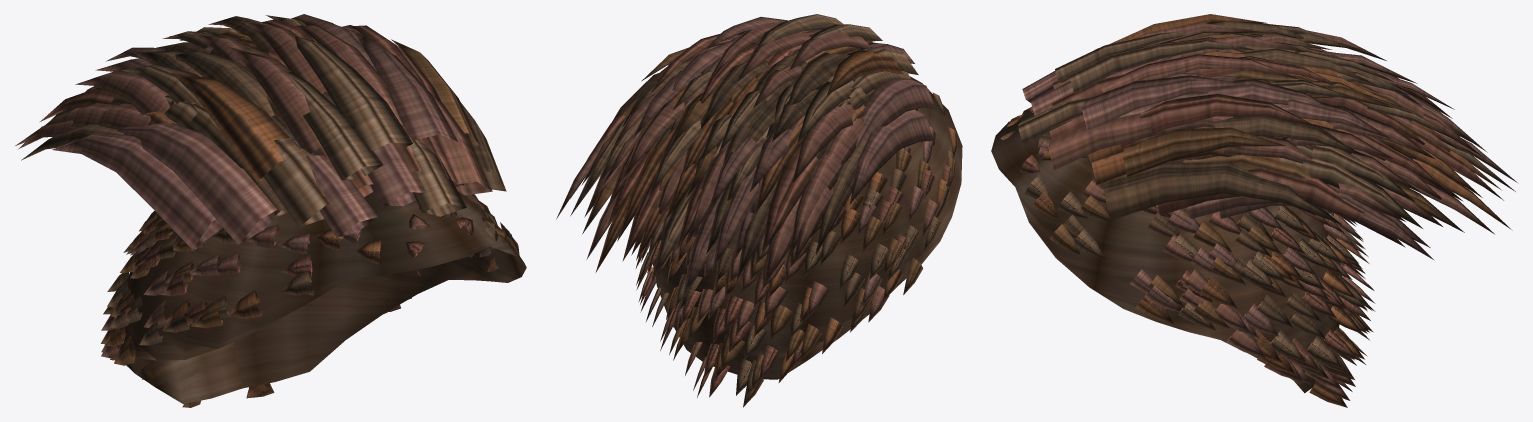
Rendered from topete.glb.
3 views of the same model, side by side, from view 1: azimuth 30°, elevation 25°; view 2: azimuth 150°, elevation 25°; view 3: azimuth 270°, elevation 25° (orthographic). The views are drawn at different scales.
Visible parts, largest first — view 1: cabelo_topete; view 2: cabelo_topete; view 3: cabelo_topete.
Boxes of the visible parts, x1=… form: cabelo_topete: x1=15, y1=14, x2=526, y2=407; cabelo_topete: x1=556, y1=14, x2=962, y2=407; cabelo_topete: x1=991, y1=14, x2=1518, y2=407.
Bounding box in the file's own units: 0.1652 × 0.1927 × 0.2555.
1 material, 1 textured.
